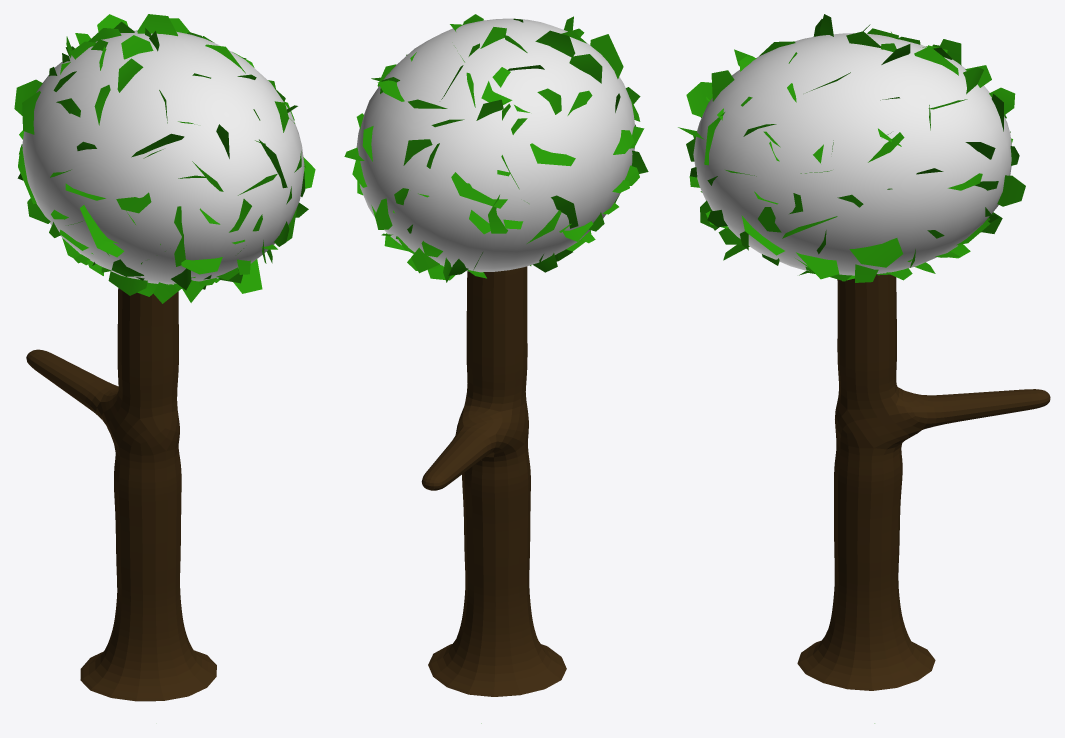
Rendered from Tree2.fbx.
The picture shows the model from 3 angles, left to right: view 1: azimuth 30°, elevation 25°; view 2: azimuth 150°, elevation 25°; view 3: azimuth 270°, elevation 25°; orthographic projection.
Visible parts, largest first — view 1: 球.009, Vert.001, 球.009|平面.001|Dupli|176, 球.009|平面.001|Dupli|589, 球.009|平面.001|Dupli|188, 球.009|平面.001|Dupli|944, 球.009|平面.001|Dupli|284, 球.009|平面.001|Dupli|44; view 2: 球.009, Vert.001, 球.009|平面.001|Dupli|128, 球.009|平面.001|Dupli|428, 球.009|平面.001|Dupli|217, 球.009|平面.001|Dupli|356, 球.009|平面.001|Dupli|212; view 3: 球.009, Vert.001, 球.009|平面.001|Dupli|728, 球.009|平面.001|Dupli|56, 球.009|平面.001|Dupli|584.
Part boxes in pixels (bbox=[...]): 球.009: bbox=[22, 30, 304, 284]; Vert.001: bbox=[26, 288, 216, 701]; 球.009|平面.001|Dupli|176: bbox=[80, 205, 124, 257]; 球.009|平面.001|Dupli|589: bbox=[137, 14, 177, 36]; 球.009|平面.001|Dupli|188: bbox=[108, 271, 147, 295]; 球.009|平面.001|Dupli|944: bbox=[233, 259, 262, 293]; 球.009|平面.001|Dupli|284: bbox=[121, 35, 153, 59]; 球.009|平面.001|Dupli|44: bbox=[181, 257, 222, 274]; 球.009: bbox=[356, 18, 635, 272]; Vert.001: bbox=[421, 266, 566, 696]; 球.009|平面.001|Dupli|128: bbox=[590, 34, 623, 78]; 球.009|平面.001|Dupli|428: bbox=[451, 172, 507, 208]; 球.009|平面.001|Dupli|217: bbox=[535, 30, 575, 57]; 球.009|平面.001|Dupli|356: bbox=[530, 143, 575, 166]; 球.009|平面.001|Dupli|212: bbox=[569, 54, 602, 83]; 球.009: bbox=[693, 33, 1011, 275]; Vert.001: bbox=[797, 274, 1050, 690]; 球.009|平面.001|Dupli|728: bbox=[849, 238, 902, 267]; 球.009|平面.001|Dupli|56: bbox=[686, 82, 712, 117]; 球.009|平面.001|Dupli|584: bbox=[997, 175, 1025, 206].
Size of the model in its own units: 232 by 628 by 308.
